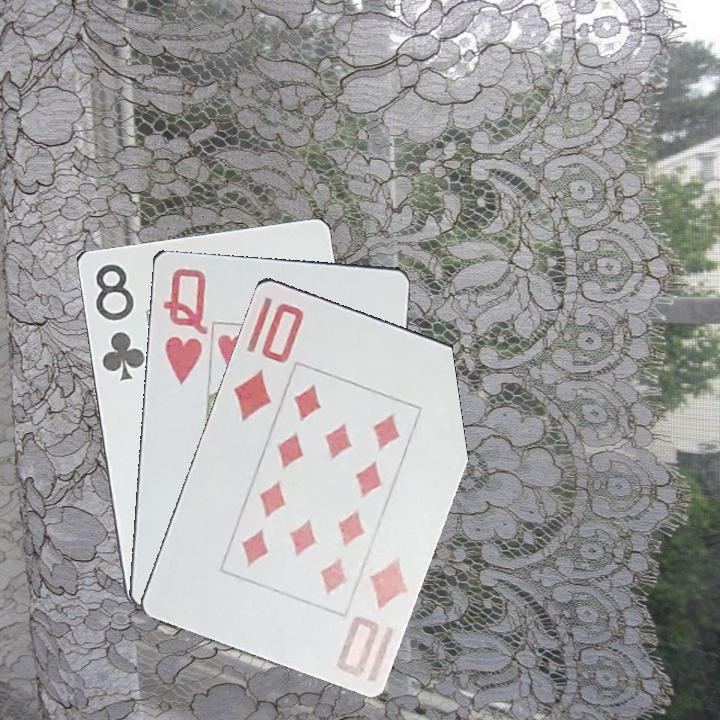8c: (91, 259, 147, 384)
Qh: (159, 264, 211, 388)
Td: (332, 552, 410, 679), (229, 298, 307, 424)
